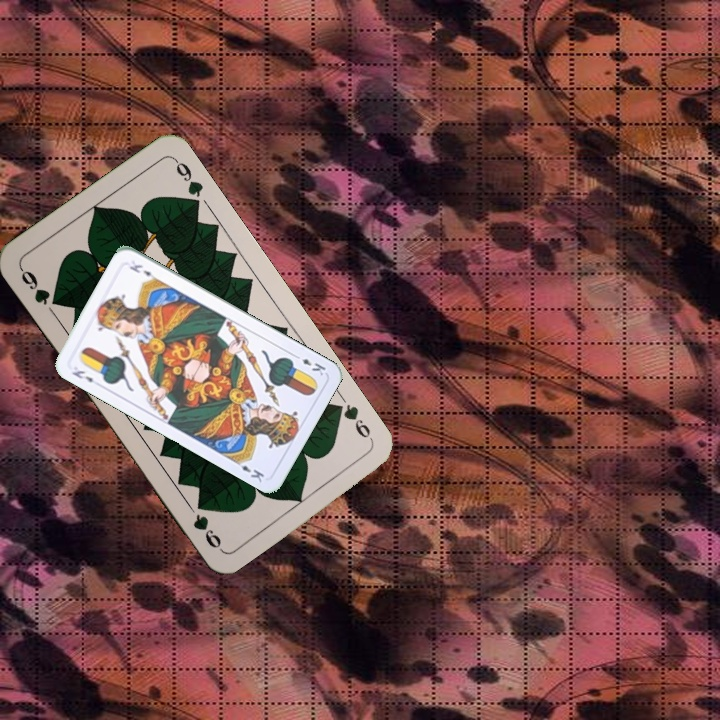EK: (290, 351, 328, 378), (68, 366, 102, 389)
G9: (329, 399, 376, 445), (16, 264, 63, 309)
